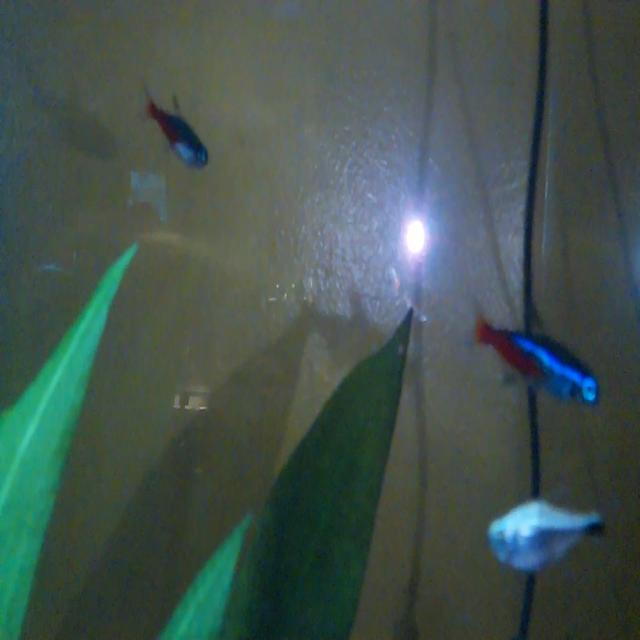fish: (471, 306, 600, 422), (480, 490, 607, 584), (134, 76, 214, 184)
